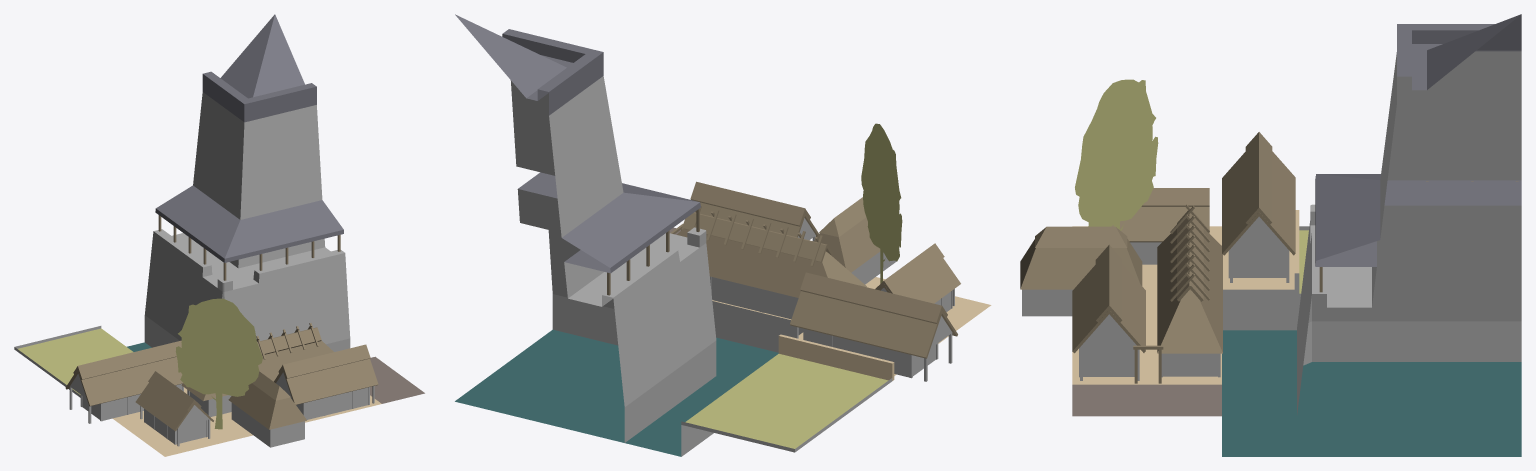
Rendered from wcr1.obj.
3 renders of one model, left to right at view 1: azimuth 30°, elevation 25°; view 2: azimuth 150°, elevation 25°; view 3: azimuth 270°, elevation 25°, orthographic. The views are drawn at different scales.
Visible parts, largest first — view 1: wcr1; view 2: wcr1; view 3: wcr1.
Boxes of the visible parts, x1=… form: wcr1: x1=14, y1=14, x2=424, y2=456; wcr1: x1=455, y1=14, x2=991, y2=456; wcr1: x1=1020, y1=14, x2=1521, y2=456.
Bounding box in the file's own units: 32.84 × 32.63 × 33.48.
